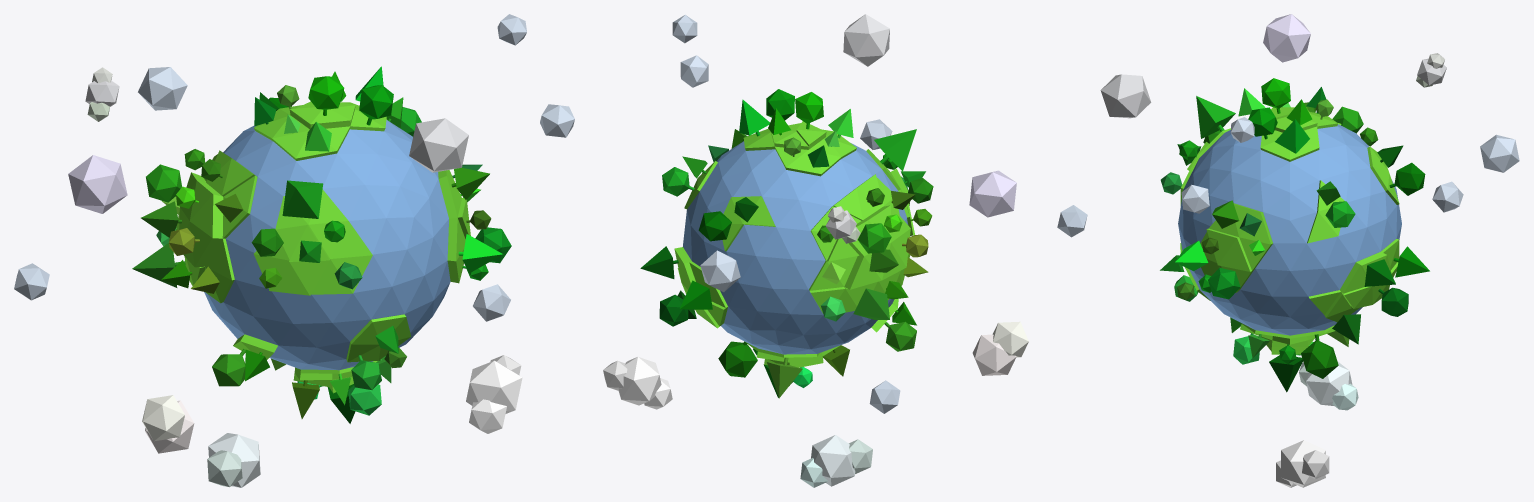
File: PlanetUpdated.glb
3 renders of one model, left to right at view 1: azimuth 30°, elevation 25°; view 2: azimuth 150°, elevation 25°; view 3: azimuth 270°, elevation 25°, orthographic. The views are drawn at different scales.
Visible parts, largest first — view 1: Icosphere.002, Icosphere.003, Icosphere.001, Icosphere.067, Icosphere.060, Icosphere.161, Icosphere.069, Icosphere.064, Icosphere.116, Icosphere.065, Icosphere.131, Icosphere.133 (+19 smaller); view 2: Icosphere.002, Icosphere.003, Icosphere.067, Icosphere.001, Icosphere.064, Icosphere.060, Icosphere.068, Icosphere.161, Icosphere.121, Icosphere.069, Icosphere.116, Icosphere.084 (+23 smaller); view 3: Icosphere.002, Icosphere.003, Icosphere.067, Icosphere.001, Icosphere.060, Icosphere.161, Icosphere.064, Icosphere.121, Icosphere.116, Icosphere.118, Icosphere.133, Icosphere.138 (+16 smaller).
Boxes of the visible parts, <box> form: Icosphere.002: <box>204,120,450,370</box>; Icosphere.003: <box>176,101,470,393</box>; Icosphere.001: <box>68,155,127,213</box>; Icosphere.067: <box>409,118,468,172</box>; Icosphere.060: <box>466,360,522,413</box>; Icosphere.161: <box>138,67,187,110</box>; Icosphere.069: <box>142,395,184,441</box>; Icosphere.064: <box>208,433,260,487</box>; Icosphere.116: <box>282,180,323,218</box>; Icosphere.065: <box>207,450,242,487</box>; Icosphere.131: <box>146,164,181,202</box>; Icosphere.133: <box>308,76,344,109</box>; Icosphere.002: <box>683,141,910,354</box>; Icosphere.003: <box>674,121,914,367</box>; Icosphere.067: <box>843,14,889,66</box>; Icosphere.001: <box>969,170,1016,217</box>; Icosphere.064: <box>811,435,855,486</box>; Icosphere.060: <box>618,357,661,405</box>; Icosphere.068: <box>972,334,1016,375</box>; Icosphere.161: <box>700,250,740,292</box>; Icosphere.121: <box>718,341,757,377</box>; Icosphere.069: <box>992,321,1028,357</box>; Icosphere.116: <box>874,129,916,171</box>; Icosphere.084: <box>853,288,889,319</box>; Icosphere.002: <box>1178,124,1401,335</box>; Icosphere.003: <box>1180,107,1399,354</box>; Icosphere.067: <box>1100,74,1151,118</box>; Icosphere.001: <box>1263,14,1310,62</box>; Icosphere.060: <box>1281,440,1325,487</box>; Icosphere.161: <box>1480,134,1519,172</box>; Icosphere.064: <box>1306,362,1352,405</box>; Icosphere.121: <box>1301,341,1338,378</box>; Icosphere.116: <box>1196,96,1235,138</box>; Icosphere.118: <box>1208,267,1240,299</box>; Icosphere.133: <box>1261,78,1290,108</box>; Icosphere.138: <box>1394,162,1425,195</box>.
Bounding box in the file's own units: 4.07 × 3.83 × 4.22.
